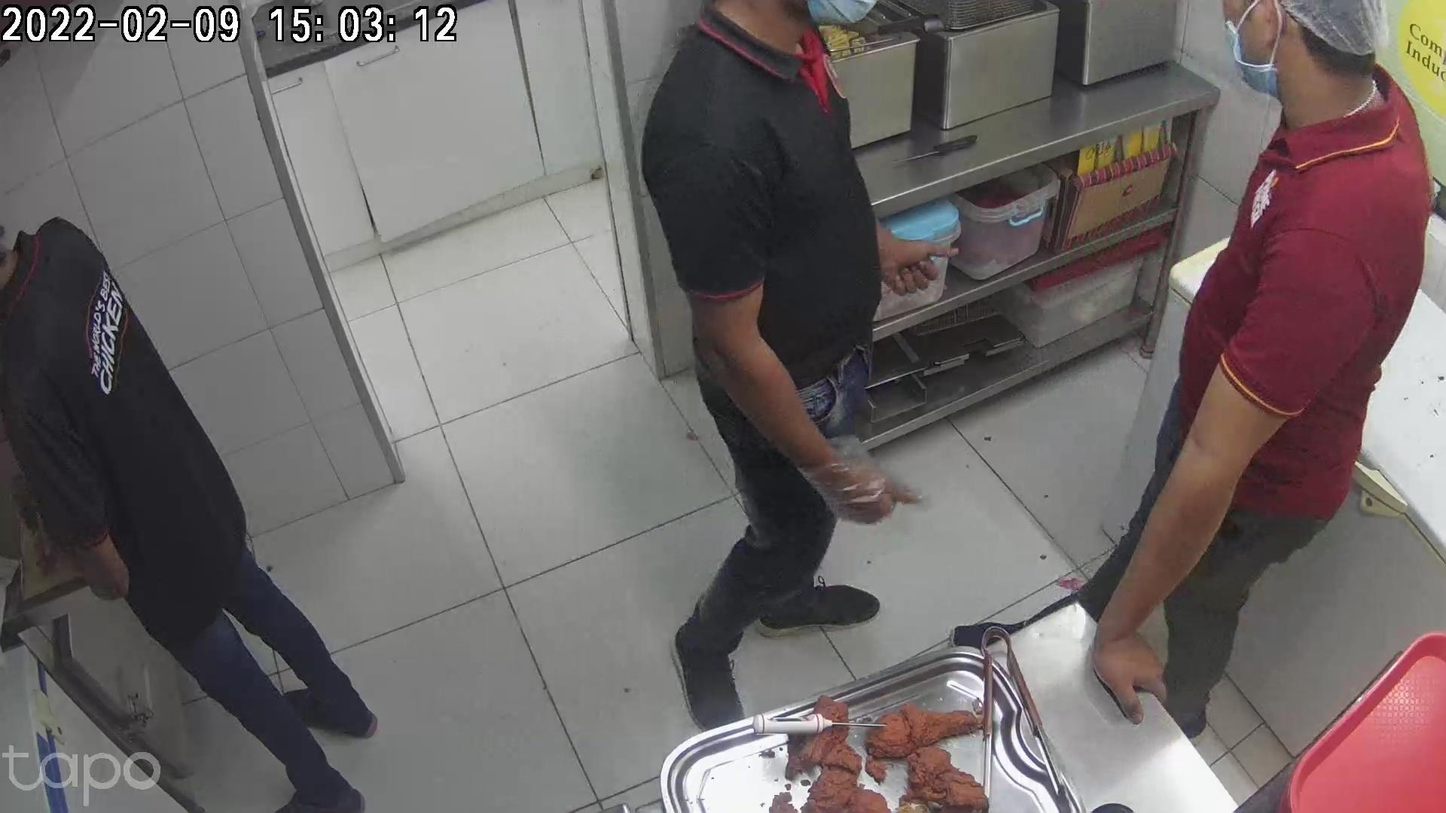gloves: (348, 370, 405, 481)
